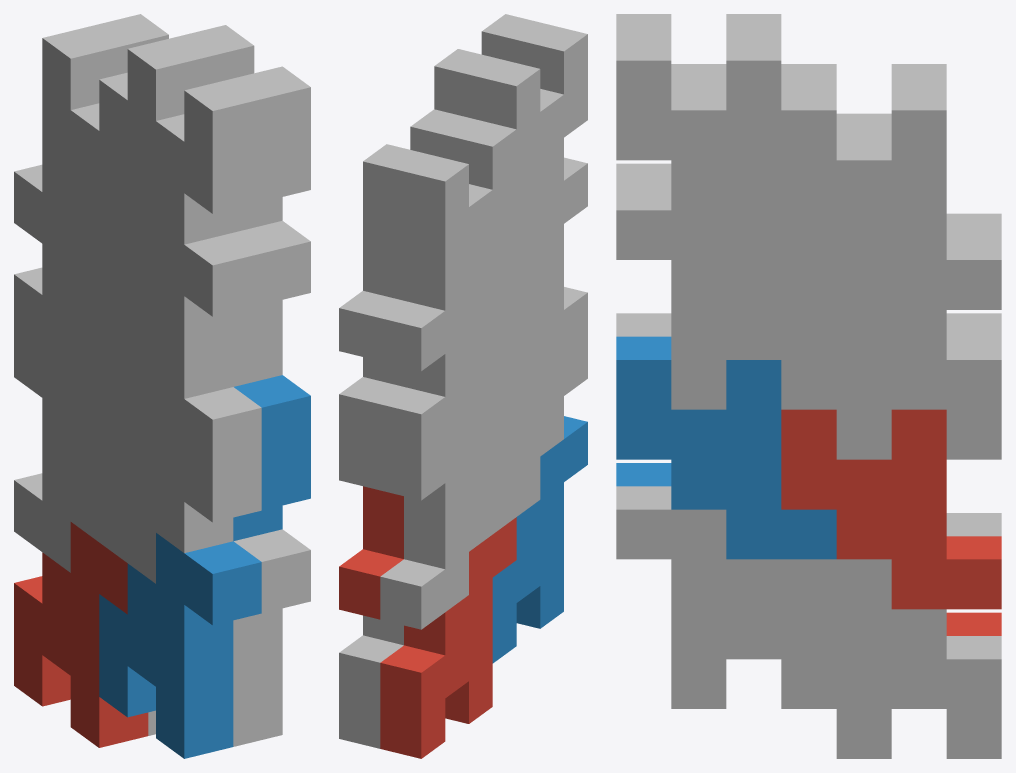
File: tiling.obj
3 renders of one model, left to right at view 1: azimuth 30°, elevation 25°; view 2: azimuth 150°, elevation 25°; view 3: azimuth 270°, elevation 25°, orthographic. The views are drawn at different scales.
Visible parts, largest first — view 1: copy_2_domain_4, copy_1_domain_2, copy_1_domain_4, copy_2_domain_2, copy_2_domain_3, copy_1_domain_1, copy_1_domain_3, copy_2_domain_1, copy_2_domain_8, copy_1_domain_6, copy_1_domain_8, copy_2_domain_6 (+1 smaller); view 2: copy_2_domain_3, copy_1_domain_1, copy_1_domain_3, copy_2_domain_1, copy_2_domain_4, copy_2_domain_7, copy_1_domain_2, copy_2_domain_2, copy_1_domain_4, copy_1_domain_5, copy_1_domain_7, copy_2_domain_5 (+1 smaller); view 3: copy_2_domain_7, copy_2_domain_8, copy_2_domain_5, copy_2_domain_6, copy_1_domain_6, copy_1_domain_5, copy_1_domain_7, copy_1_domain_8, copy_2_domain_3, copy_2_domain_4, copy_1_domain_3, copy_2_domain_2 (+4 smaller).
Part boxes in pixels (x1,y1,x2,y2): copy_2_domain_4: (99, 37, 261, 274); copy_1_domain_2: (99, 533, 261, 758); copy_1_domain_4: (99, 224, 261, 449); copy_2_domain_2: (99, 358, 261, 583); copy_2_domain_3: (14, 26, 127, 263); copy_1_domain_1: (14, 522, 148, 747); copy_1_domain_3: (14, 213, 127, 439); copy_2_domain_1: (14, 347, 127, 572); copy_2_domain_8: (177, 25, 310, 232); copy_1_domain_6: (233, 529, 310, 746); copy_1_domain_8: (233, 220, 310, 386); copy_2_domain_6: (233, 375, 310, 541); copy_2_domain_3: (380, 119, 516, 371); copy_1_domain_1: (380, 517, 516, 758); copy_1_domain_3: (380, 259, 516, 500); copy_2_domain_1: (380, 388, 516, 629); copy_2_domain_4: (475, 24, 587, 275); copy_2_domain_7: (339, 109, 474, 360); copy_1_domain_2: (492, 416, 587, 663); copy_2_domain_2: (492, 287, 587, 533); copy_1_domain_4: (492, 157, 587, 404); copy_1_domain_5: (339, 615, 403, 748); copy_1_domain_7: (339, 357, 403, 490); copy_2_domain_5: (339, 486, 403, 619); copy_2_domain_7: (781, 87, 1001, 309); copy_2_domain_8: (616, 37, 836, 259); copy_2_domain_5: (781, 409, 1001, 609); copy_2_domain_6: (616, 336, 836, 559); copy_1_domain_6: (616, 486, 836, 708); copy_1_domain_5: (781, 559, 1001, 758); copy_1_domain_7: (781, 260, 1001, 459); copy_1_domain_8: (616, 187, 836, 409); copy_2_domain_3: (781, 64, 1001, 236); copy_2_domain_4: (616, 14, 781, 86); copy_1_domain_3: (946, 313, 1001, 336); copy_2_domain_2: (616, 313, 671, 336).
Size of the model in its own units: 2 by 14 by 7.
